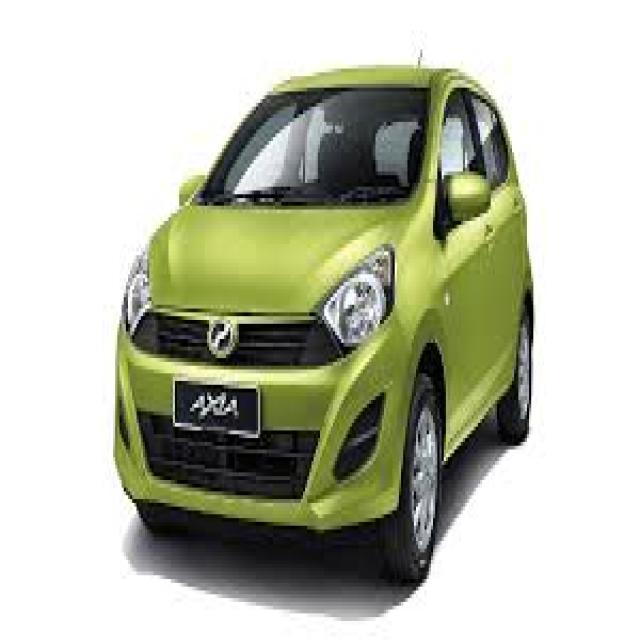PeroduaAxia: (111, 53, 535, 583)
